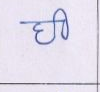i_matra: (54, 7, 69, 38)
